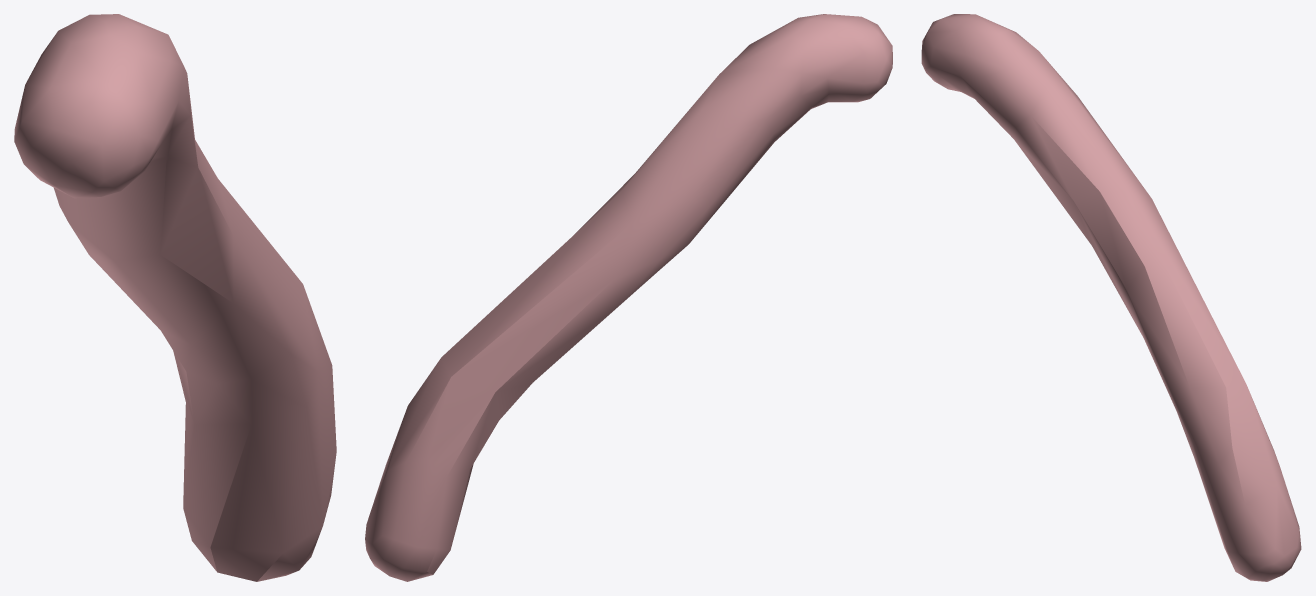
Rendered from fma14539_fj4526.glb.
3 renders of one model, left to right at view 1: azimuth 30°, elevation 25°; view 2: azimuth 150°, elevation 25°; view 3: azimuth 270°, elevation 25°, orthographic. The views are drawn at different scales.
Visible parts, largest first — view 1: FMA14539_FJ4526; view 2: FMA14539_FJ4526; view 3: FMA14539_FJ4526.
Boxes of the visible parts, x1,y1,x2,y2 form: FMA14539_FJ4526: (14,14,336,581); FMA14539_FJ4526: (365,14,892,581); FMA14539_FJ4526: (921,14,1301,581).
Bounding box in the file's own units: 0.00878 × 0.0122 × 0.00935.
